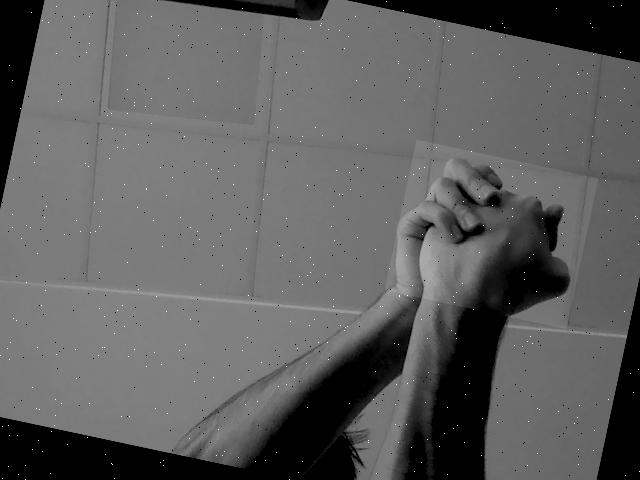friend: (384, 140, 598, 330)
